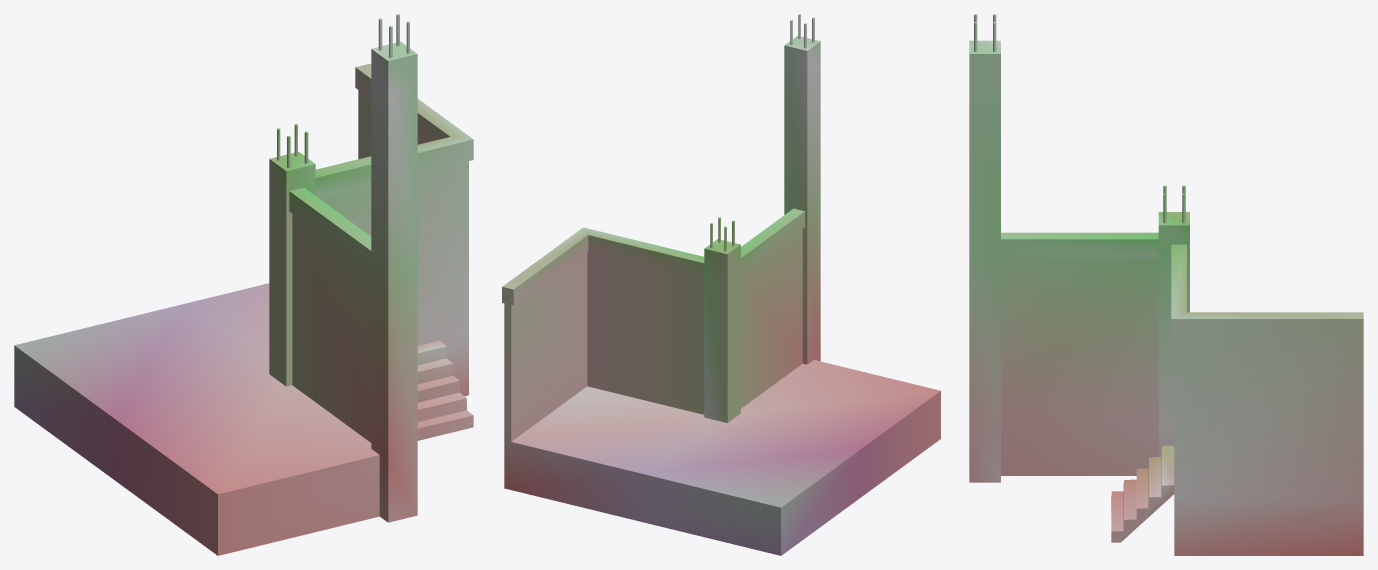
File: Structures_9.fbx
3 views of the same model, side by side, from view 1: azimuth 30°, elevation 25°; view 2: azimuth 150°, elevation 25°; view 3: azimuth 270°, elevation 25° (orthographic). The views are drawn at different scales.
Visible parts, largest first — view 1: Structures_9; view 2: Structures_9; view 3: Structures_9.
Boxes of the visible parts, bbox=[...] form: Structures_9: bbox=[14, 14, 473, 555]; Structures_9: bbox=[502, 14, 940, 555]; Structures_9: bbox=[969, 14, 1363, 555].
Size of what is drawn, in the model's own units: 605 by 800 by 625.
